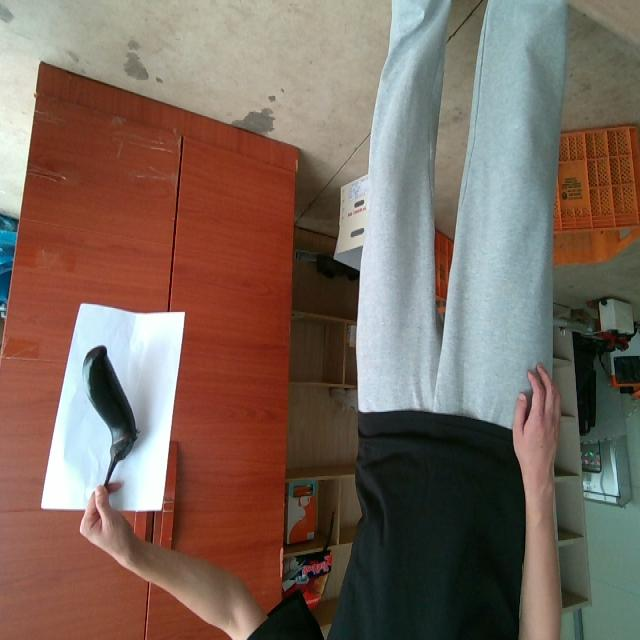Egg plant: (83, 347, 137, 487)
